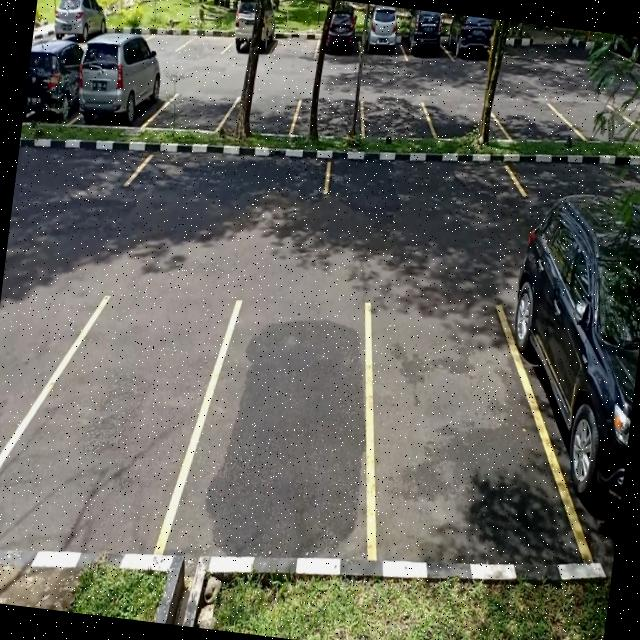empty: (179, 286, 382, 566), (19, 282, 207, 565), (350, 276, 528, 566), (322, 139, 516, 222), (124, 135, 332, 211), (150, 80, 234, 138), (292, 92, 367, 146), (359, 91, 433, 145), (226, 88, 300, 141), (428, 95, 499, 146), (496, 94, 566, 144), (268, 26, 320, 63), (181, 22, 230, 56)
occupied: (497, 256, 640, 562), (73, 36, 164, 136), (226, 12, 276, 60), (358, 16, 408, 64), (314, 20, 363, 64), (402, 20, 448, 64), (444, 22, 490, 66)
